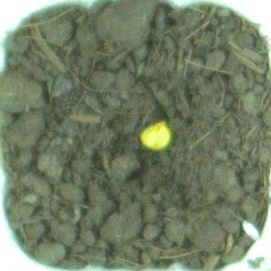pepper seed: (52, 44, 226, 196)
